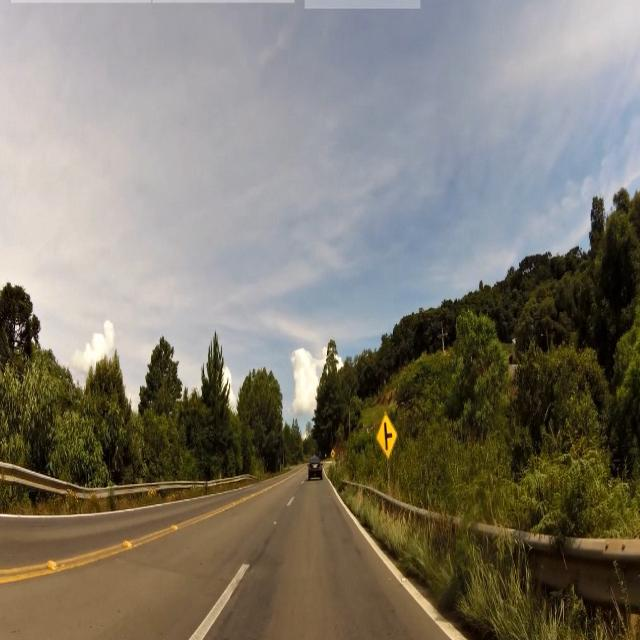A-7b: (375, 404, 402, 456)
